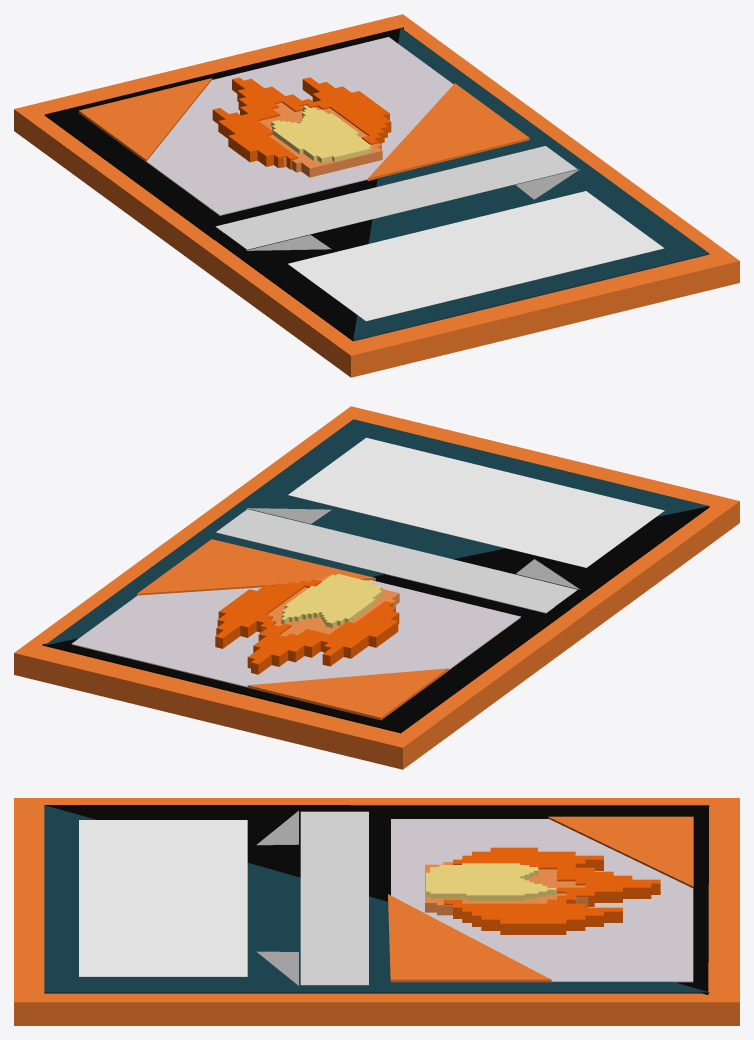
File: carta_fuego.glb
3 views of the same model, one above another, from view 1: azimuth 30°, elevation 25°; view 2: azimuth 150°, elevation 25°; view 3: azimuth 270°, elevation 25° (orthographic). The views are drawn at different scales.
Visible parts, largest first — view 1: rect42358, rect42374, rect42368, path42364, path42366, path42362, path86410, path42392, path42370, path42394, path94616, path90876 (+2 smaller); view 2: rect42358, rect42374, rect42368, path42364, path42366, path42362, path86410, path42392, path42370, path42394, path94616, path90876 (+2 smaller); view 3: rect42358, rect42374, rect42368, path42364, path42366, path86410, path42362, path42392, path42370, path42394, path94616, path90876 (+2 smaller).
Boxes of the visible parts, left/top/right/bottom form: rect42358: left=14, top=14, right=739, bottom=377; rect42374: left=288, top=191, right=664, bottom=321; rect42368: left=146, top=37, right=453, bottom=215; path42364: left=353, top=28, right=709, bottom=341; path42366: left=215, top=146, right=576, bottom=249; path42362: left=44, top=27, right=403, bottom=239; path86410: left=212, top=77, right=391, bottom=169; path42392: left=367, top=83, right=529, bottom=180; path42370: left=211, top=219, right=372, bottom=340; path42394: left=79, top=78, right=212, bottom=162; path94616: left=271, top=105, right=371, bottom=162; path90876: left=259, top=102, right=382, bottom=177; rect42358: left=14, top=406, right=739, bottom=769; rect42374: left=288, top=437, right=664, bottom=567; rect42368: left=71, top=580, right=520, bottom=687; path42364: left=45, top=419, right=708, bottom=646; path42366: left=216, top=509, right=577, bottom=613; path42362: left=42, top=574, right=570, bottom=733; path86410: left=215, top=579, right=399, bottom=674; path42392: left=137, top=539, right=375, bottom=595; path42370: left=453, top=506, right=709, bottom=610; path42394: left=247, top=668, right=448, bottom=720; path94616: left=281, top=574, right=382, bottom=627; path90876: left=261, top=575, right=399, bottom=636; rect42358: left=14, top=798, right=739, bottom=1025; rect42374: left=79, top=820, right=247, bottom=976; rect42368: left=391, top=819, right=693, bottom=982; path42364: left=44, top=805, right=709, bottom=993; path42366: left=300, top=811, right=368, bottom=985; path86410: left=443, top=847, right=660, bottom=934; path42362: left=350, top=805, right=709, bottom=994; path42392: left=388, top=894, right=551, bottom=982; path42370: left=45, top=805, right=350, bottom=877; path42394: left=548, top=816, right=693, bottom=889; path94616: left=426, top=863, right=556, bottom=900; path90876: left=425, top=859, right=588, bottom=915.
Bounding box in the file's own units: 0.6974 × 0.0648 × 1.05.
